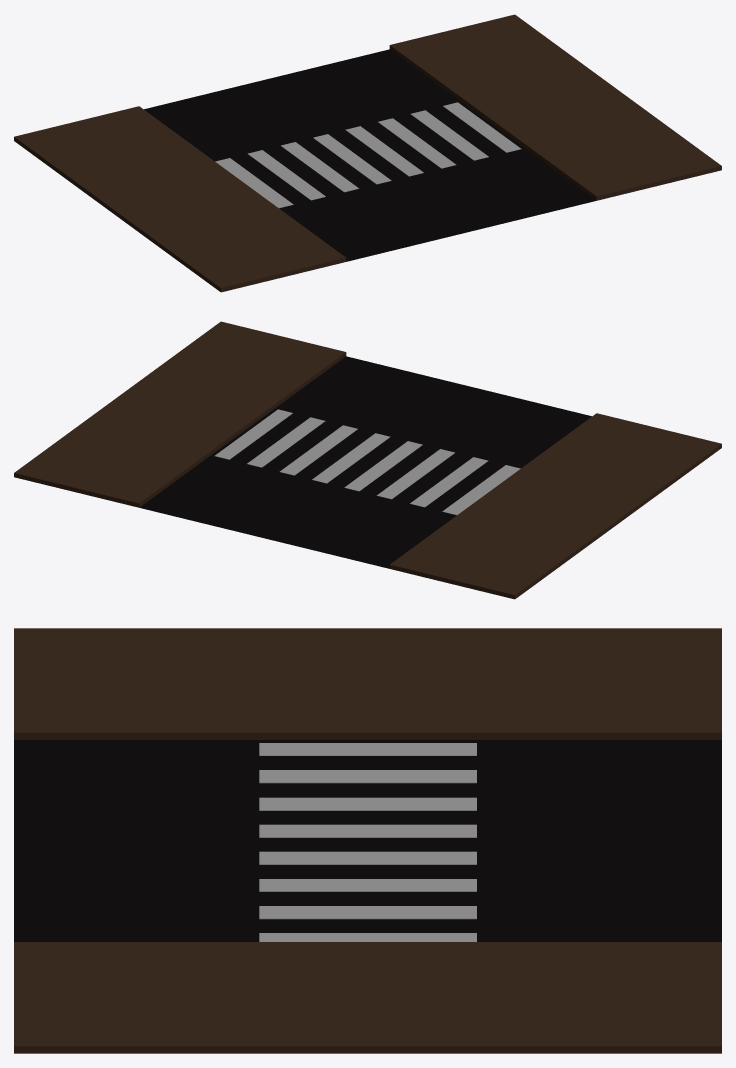
Rendered from Road_crossing_tile.FBX.
The picture shows the model from 3 angles, top to bottom: view 1: azimuth 30°, elevation 25°; view 2: azimuth 150°, elevation 25°; view 3: azimuth 270°, elevation 25°; orthographic projection. The views are drawn at different scales.
Visible parts, largest first — view 1: Road_module2_002; view 2: Road_module2_002; view 3: Road_module2_002.
Boxes of the visible parts, x1,y1,x2,y2 form: Road_module2_002: [14, 14, 721, 292]; Road_module2_002: [14, 321, 721, 599]; Road_module2_002: [14, 628, 721, 1053].
Bounding box in the file's own units: 1900 × 1360 × 16.87.
